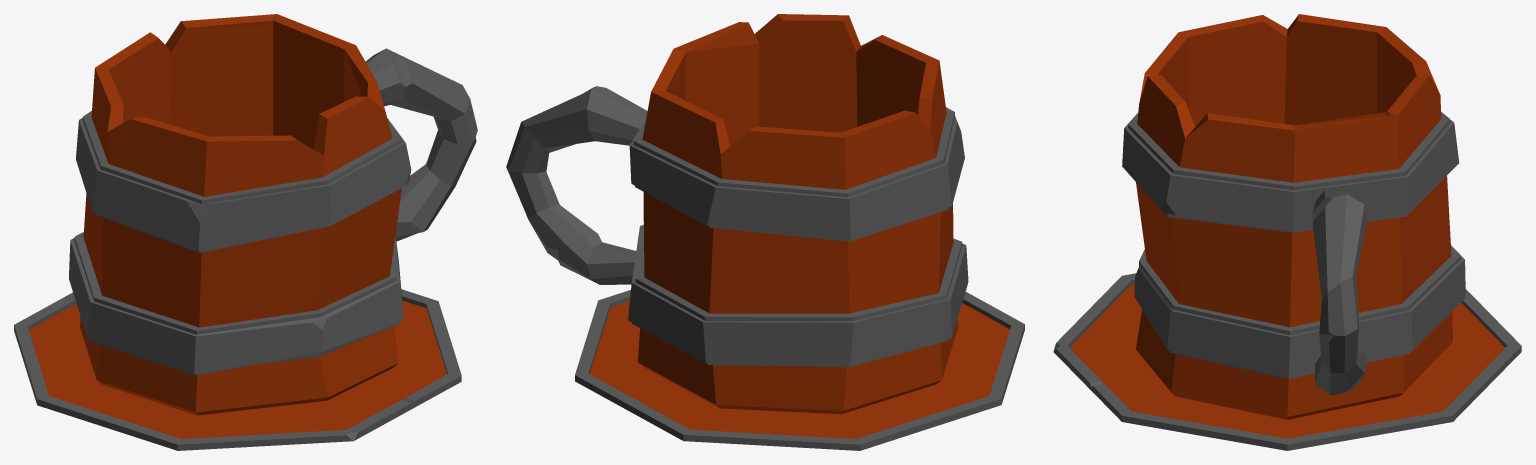
File: Wooden Mug.obj
3 renders of one model, left to right at view 1: azimuth 30°, elevation 25°; view 2: azimuth 150°, elevation 25°; view 3: azimuth 270°, elevation 25°, orthographic.
Visible parts, largest first — view 1: Cylinder, Circle, Cylinder.001; view 2: Cylinder, Circle, Cylinder.001; view 3: Cylinder, Circle, Cylinder.001.
Part boxes in pixels (x1,y1,x2,y2): Cylinder: [69, 14, 411, 415]; Circle: [14, 289, 461, 450]; Cylinder.001: [365, 48, 477, 241]; Cylinder: [628, 14, 968, 414]; Circle: [575, 290, 1024, 450]; Cylinder.001: [506, 86, 647, 284]; Cylinder: [1122, 14, 1465, 419]; Circle: [1053, 273, 1521, 450]; Cylinder.001: [1312, 188, 1366, 395].
Bounding box in the file's own units: 3.59 × 2.09 × 3.1.
